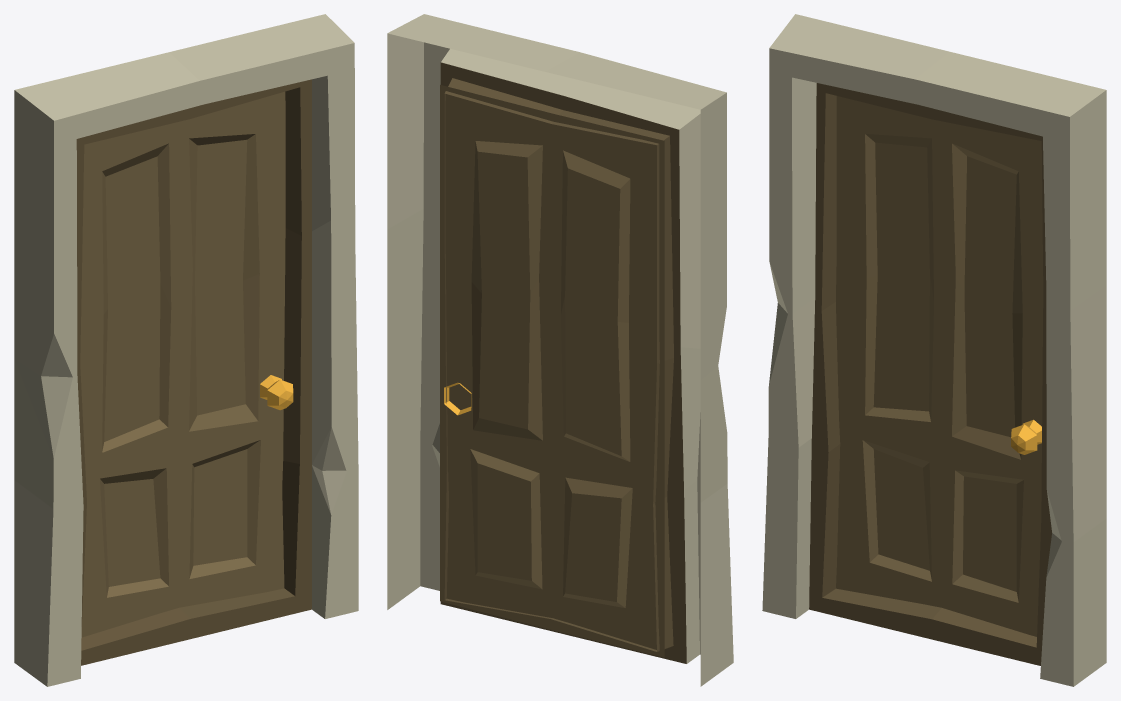
The model's file is Door_3.fbx.
3 views of the same model, side by side, from view 1: azimuth 30°, elevation 25°; view 2: azimuth 150°, elevation 25°; view 3: azimuth 330°, elevation 25° (orthographic).
Visible parts, largest first — view 1: Door_3; view 2: Door_3; view 3: Door_3.
Boxes of the visible parts, box(x1,y1,x2,y2) form: Door_3: box(14, 14, 358, 686); Door_3: box(387, 14, 733, 686); Door_3: box(762, 14, 1106, 686).
Size of the model in its own units: 141 by 248 by 25.85.
